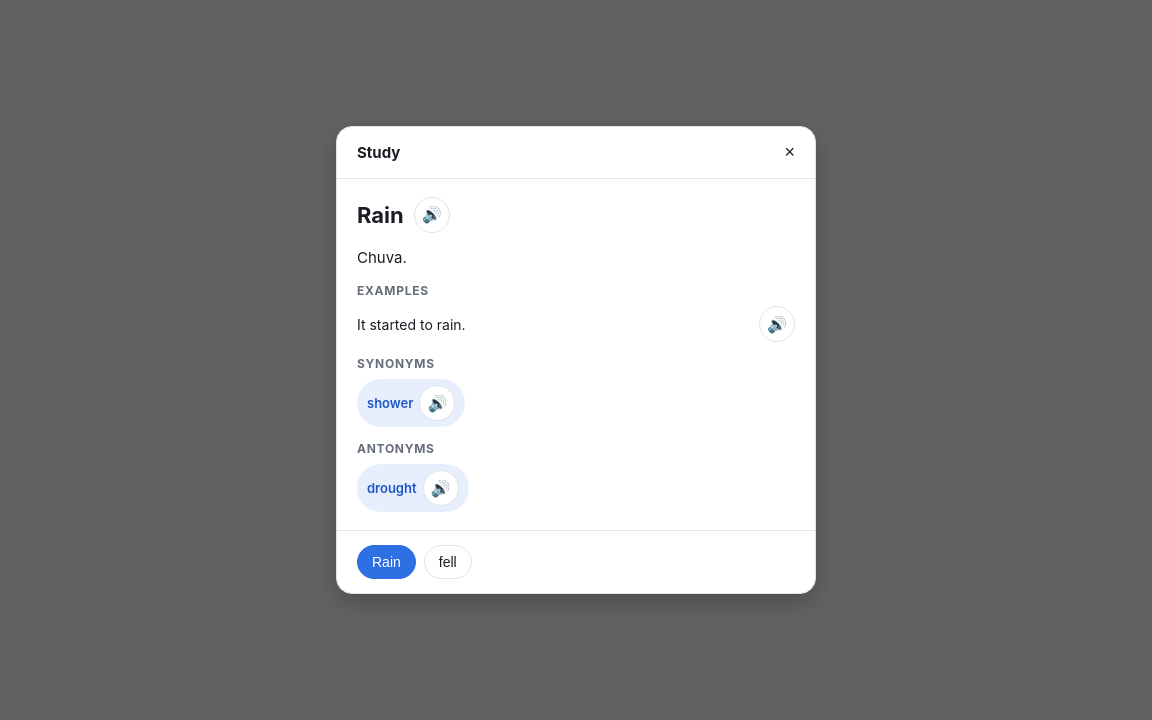
Test: StudyWordModal › switches the selected word and its info when a different word button is clicked
Click the button with class "study-word-btn" showing "fell" at (448, 562), box [424,545,472,579]
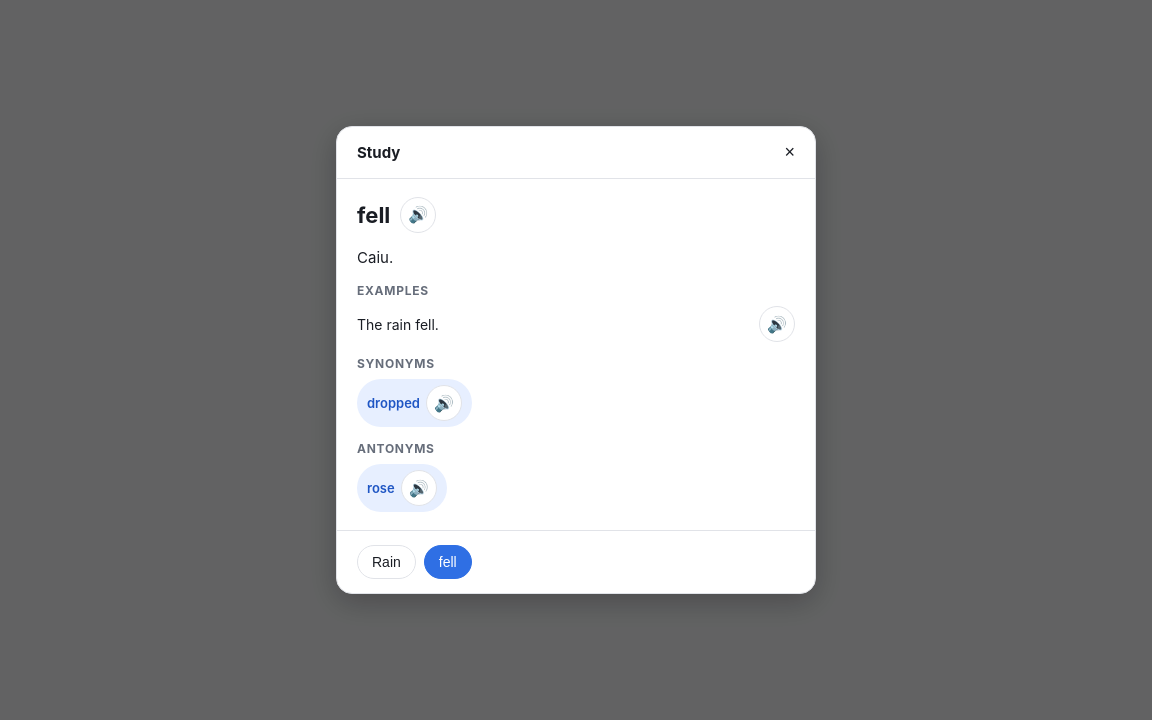
Expected: the text with class "study-word" reads "fell", [357,202,390,228]
